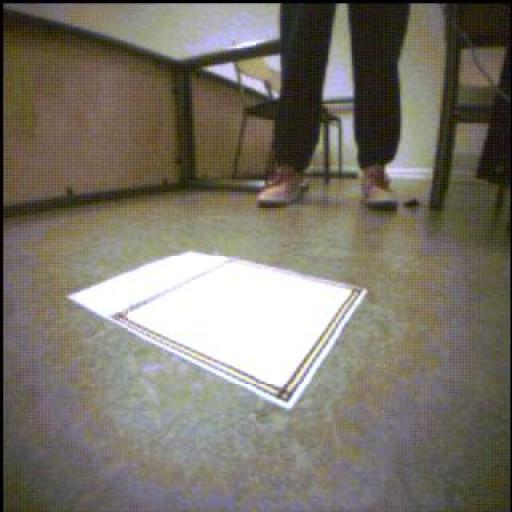Pad: (70, 254, 367, 409)
